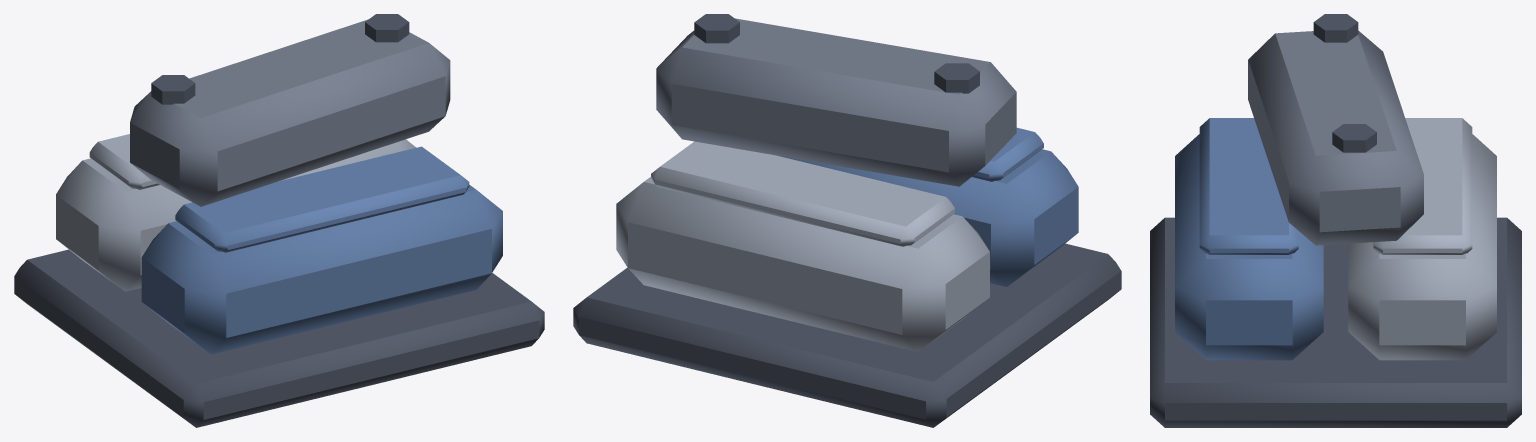
Rendered from cg_metal.glb.
3 renders of one model, left to right at view 1: azimuth 30°, elevation 25°; view 2: azimuth 150°, elevation 25°; view 3: azimuth 270°, elevation 25°, orthographic. The views are drawn at different scales.
Visible parts, largest first — view 1: body; view 2: body; view 3: body.
Part boxes in pixels (x1,y1,x2,y2): body: [14, 14, 544, 427]; body: [573, 14, 1121, 427]; body: [1150, 14, 1521, 427].
Size of the model in its own units: 0.34 by 0.241 by 0.3.
